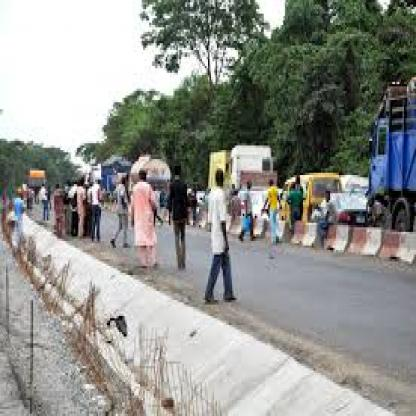car: (360, 82, 416, 235)
